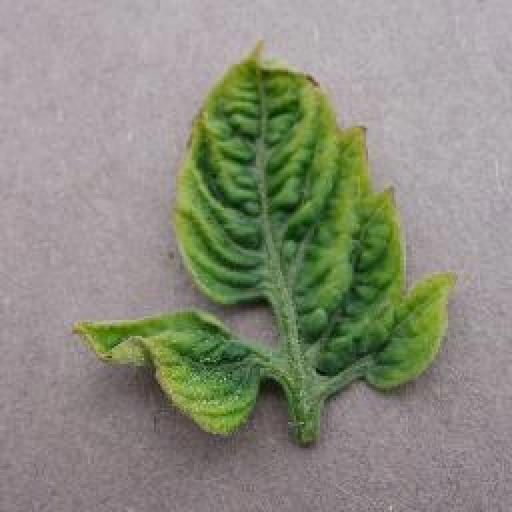disease_tomato: (179, 42, 456, 394), (67, 310, 267, 440)
